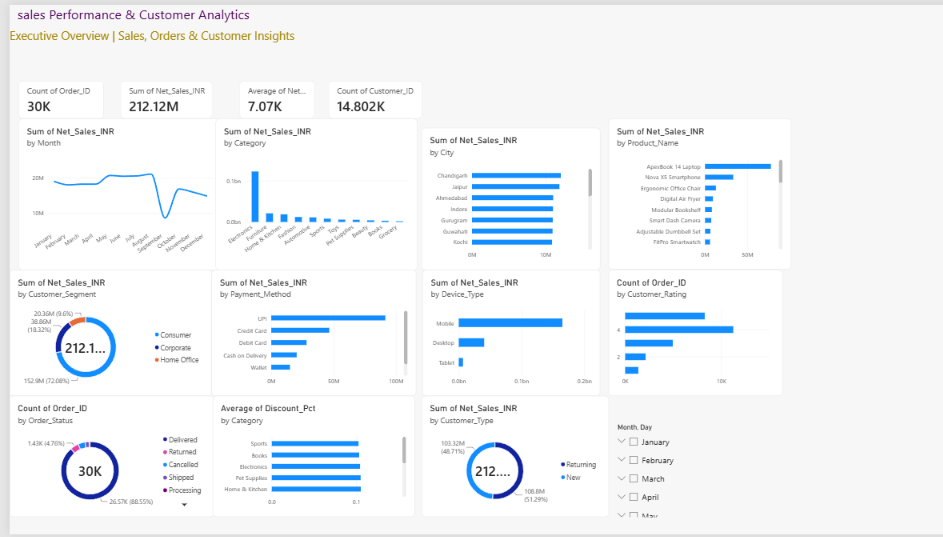

The page's visual inventory and layout, read from the dashboard file:
{"tool":"powerbi","page":{"name":"Page 1","canvas":[1920,1080],"ordinal":0},"visuals":[{"type":"cardVisual","fields":{"Data":["Count(recent_ecommerce_sales_dataset_2025_2026_30000_rows (1).Order_ID)"]},"box":[17.5,155,174.4,77.8],"z":0},{"type":"cardVisual","fields":{"Data":["Sum(recent_ecommerce_sales_dataset_2025_2026_30000_rows (1).Net_Sales_INR)"]},"box":[227.5,155,187.8,77.8],"z":1},{"type":"cardVisual","fields":{"Data":["Avg(recent_ecommerce_sales_dataset_2025_2026_30000_rows (1).Net_Sales_INR)"]},"box":[470,155,153.3,77.8],"z":2},{"type":"cardVisual","fields":{"Data":["Count(recent_ecommerce_sales_dataset_2025_2026_30000_rows (1).Customer_ID)"]},"box":[650,155,191.1,77.8],"z":3},{"type":"lineChart","fields":{"Category":["recent_ecommerce_sales_dataset_2025_2026_30000_rows (1).Order_Date.Variation.Date Hierarchy.Month","recent_ecommerce_sales_dataset_2025_2026_30000_rows (1).Order_Date.Variation.Date Hierarchy.Day"],"Y":["Sum(recent_ecommerce_sales_dataset_2025_2026_30000_rows (1).Net_Sales_INR)"]},"box":[17.5,232.5,412,308.7],"z":4},{"type":"clusteredColumnChart","fields":{"Category":["recent_ecommerce_sales_dataset_2025_2026_30000_rows (1).Category"],"Y":["Sum(recent_ecommerce_sales_dataset_2025_2026_30000_rows (1).Net_Sales_INR)"]},"box":[420,232.5,412,308.7],"z":5},{"type":"barChart","fields":{"Category":["recent_ecommerce_sales_dataset_2025_2026_30000_rows (1).City"],"Y":["Sum(recent_ecommerce_sales_dataset_2025_2026_30000_rows (1).Net_Sales_INR)"]},"box":[840,250,365,290],"z":6},{"type":"donutChart","fields":{"Category":["recent_ecommerce_sales_dataset_2025_2026_30000_rows (1).Customer_Segment"],"Y":["Sum(recent_ecommerce_sales_dataset_2025_2026_30000_rows (1).Net_Sales_INR)"]},"box":[0,540,412.5,257.5],"z":7},{"type":"clusteredBarChart","fields":{"Category":["recent_ecommerce_sales_dataset_2025_2026_30000_rows (1).Payment_Method"],"Y":["Sum(recent_ecommerce_sales_dataset_2025_2026_30000_rows (1).Net_Sales_INR)"]},"box":[412.5,540,417.5,257.5],"z":8},{"type":"donutChart","fields":{"Category":["recent_ecommerce_sales_dataset_2025_2026_30000_rows (1).Order_Status"],"Y":["CountNonNull(recent_ecommerce_sales_dataset_2025_2026_30000_rows (1).Order_ID)"]},"box":[0,797.5,417.5,247.5],"z":9},{"type":"clusteredBarChart","fields":{"Category":["recent_ecommerce_sales_dataset_2025_2026_30000_rows (1).Category"],"Y":["Avg(recent_ecommerce_sales_dataset_2025_2026_30000_rows (1).Discount_Pct)"]},"box":[415,797.5,412.5,247.5],"z":10},{"type":"clusteredBarChart","fields":{"Category":["recent_ecommerce_sales_dataset_2025_2026_30000_rows (1).Device_Type"],"Y":["Sum(recent_ecommerce_sales_dataset_2025_2026_30000_rows (1).Net_Sales_INR)"]},"box":[842.5,540,362.5,257.5],"z":11},{"type":"donutChart","fields":{"Category":["recent_ecommerce_sales_dataset_2025_2026_30000_rows (1).Customer_Type"],"Y":["Sum(recent_ecommerce_sales_dataset_2025_2026_30000_rows (1).Net_Sales_INR)"]},"box":[840,797.5,382.5,247.5],"z":12},{"type":"clusteredBarChart","fields":{"Category":["recent_ecommerce_sales_dataset_2025_2026_30000_rows (1).Product_Name"],"Y":["Sum(recent_ecommerce_sales_dataset_2025_2026_30000_rows (1).Net_Sales_INR)"]},"box":[1222.5,232.5,372.5,307.5],"z":13},{"type":"clusteredBarChart","fields":{"Category":["recent_ecommerce_sales_dataset_2025_2026_30000_rows (1).Customer_Rating"],"Y":["CountNonNull(recent_ecommerce_sales_dataset_2025_2026_30000_rows (1).Order_ID)"]},"box":[1222.5,540,355,257.5],"z":14},{"type":"slicer","fields":{"Values":["recent_ecommerce_sales_dataset_2025_2026_30000_rows (1).Order_Date.Variation.Date Hierarchy.Month","recent_ecommerce_sales_dataset_2025_2026_30000_rows (1).Order_Date.Variation.Date Hierarchy.Day"]},"box":[1232.5,852.5,687.5,192.5],"z":15},{"type":"textbox","box":[16.7,0,1620,46.7],"z":16},{"type":"textbox","box":[0,46.7,1920,66.7],"z":17}]}

Visuals, with their boxes in screenshot pixels (x1, y1, x2, y2), scaled from the page's 1920x1080 canvas onto the 943x537 screenshot:
cardVisual - Count(recent_ecommerce_sales_dataset_2025_2026_30000_rows (1).Order_ID): [9,77,94,116]
cardVisual - Sum(recent_ecommerce_sales_dataset_2025_2026_30000_rows (1).Net_Sales_INR): [112,77,204,116]
cardVisual - Avg(recent_ecommerce_sales_dataset_2025_2026_30000_rows (1).Net_Sales_INR): [231,77,306,116]
cardVisual - Count(recent_ecommerce_sales_dataset_2025_2026_30000_rows (1).Customer_ID): [319,77,413,116]
lineChart - recent_ecommerce_sales_dataset_2025_2026_30000_rows (1).Order_Date.Variation.Date Hierarchy.Month x recent_ecommerce_sales_dataset_2025_2026_30000_rows (1).Order_Date.Variation.Date Hierarchy.Day: [9,116,211,269]
clusteredColumnChart - recent_ecommerce_sales_dataset_2025_2026_30000_rows (1).Category x Sum(recent_ecommerce_sales_dataset_2025_2026_30000_rows (1).Net_Sales_INR): [206,116,409,269]
barChart - recent_ecommerce_sales_dataset_2025_2026_30000_rows (1).City x Sum(recent_ecommerce_sales_dataset_2025_2026_30000_rows (1).Net_Sales_INR): [413,124,592,268]
donutChart - recent_ecommerce_sales_dataset_2025_2026_30000_rows (1).Customer_Segment x Sum(recent_ecommerce_sales_dataset_2025_2026_30000_rows (1).Net_Sales_INR): [0,268,203,397]
clusteredBarChart - recent_ecommerce_sales_dataset_2025_2026_30000_rows (1).Payment_Method x Sum(recent_ecommerce_sales_dataset_2025_2026_30000_rows (1).Net_Sales_INR): [203,268,408,397]
donutChart - recent_ecommerce_sales_dataset_2025_2026_30000_rows (1).Order_Status x CountNonNull(recent_ecommerce_sales_dataset_2025_2026_30000_rows (1).Order_ID): [0,397,205,520]
clusteredBarChart - recent_ecommerce_sales_dataset_2025_2026_30000_rows (1).Category x Avg(recent_ecommerce_sales_dataset_2025_2026_30000_rows (1).Discount_Pct): [204,397,406,520]
clusteredBarChart - recent_ecommerce_sales_dataset_2025_2026_30000_rows (1).Device_Type x Sum(recent_ecommerce_sales_dataset_2025_2026_30000_rows (1).Net_Sales_INR): [414,268,592,397]
donutChart - recent_ecommerce_sales_dataset_2025_2026_30000_rows (1).Customer_Type x Sum(recent_ecommerce_sales_dataset_2025_2026_30000_rows (1).Net_Sales_INR): [413,397,600,520]
clusteredBarChart - recent_ecommerce_sales_dataset_2025_2026_30000_rows (1).Product_Name x Sum(recent_ecommerce_sales_dataset_2025_2026_30000_rows (1).Net_Sales_INR): [600,116,783,268]
clusteredBarChart - recent_ecommerce_sales_dataset_2025_2026_30000_rows (1).Customer_Rating x CountNonNull(recent_ecommerce_sales_dataset_2025_2026_30000_rows (1).Order_ID): [600,268,775,397]
slicer - recent_ecommerce_sales_dataset_2025_2026_30000_rows (1).Order_Date.Variation.Date Hierarchy.Month x recent_ecommerce_sales_dataset_2025_2026_30000_rows (1).Order_Date.Variation.Date Hierarchy.Day: [605,424,942,520]
textbox: [8,0,804,23]
textbox: [0,23,942,56]
